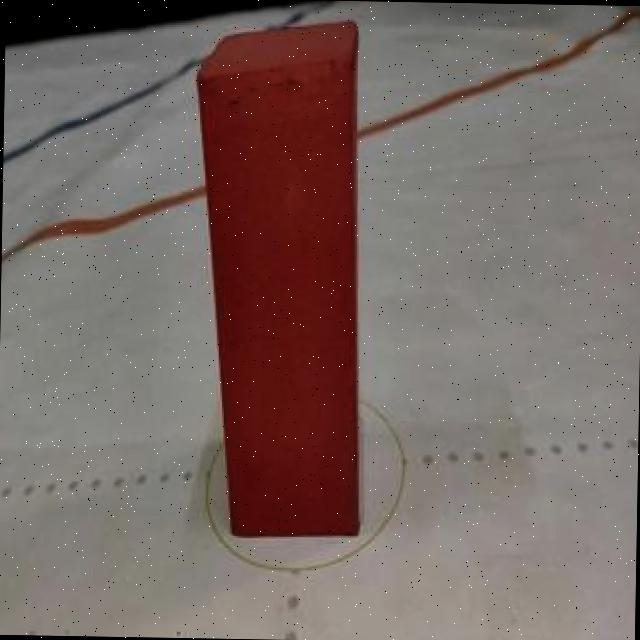redbox: (188, 18, 372, 536)
